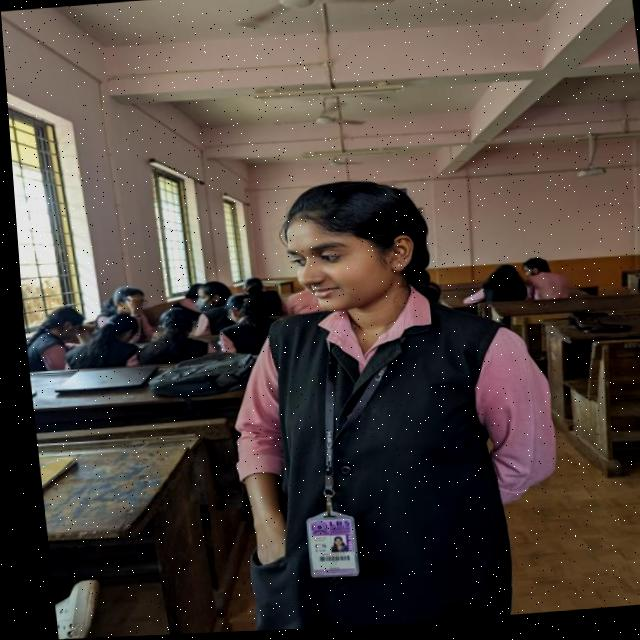id_card: (263, 311, 415, 586)
